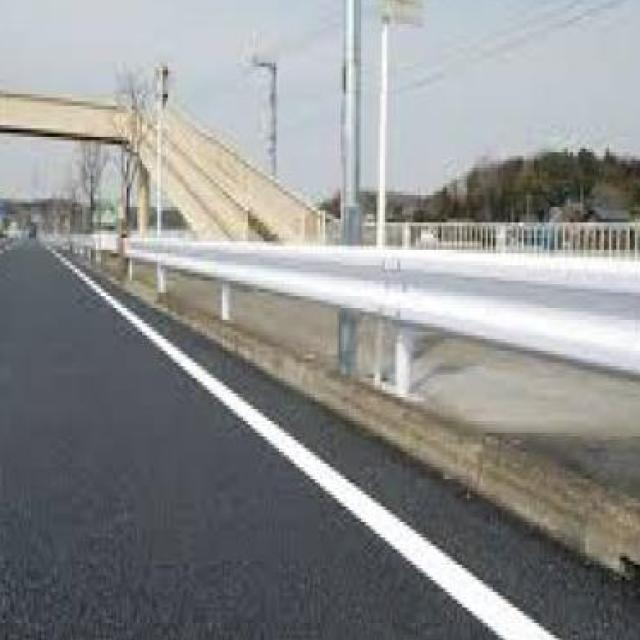Guard rail: (118, 224, 640, 467)
